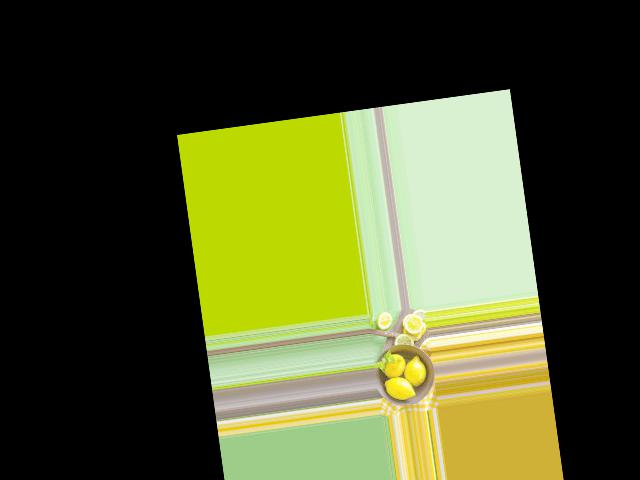lemon: (380, 372, 418, 406)
